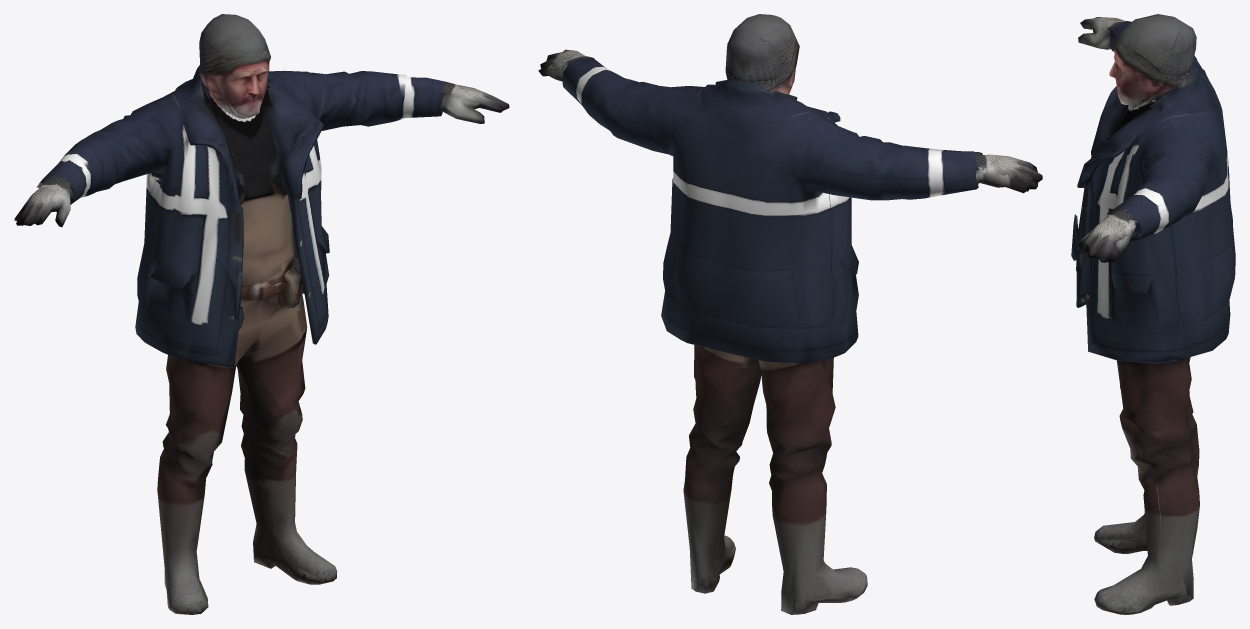
Rendered from Meshy_AI_Arms_Outstretched_0525043205_texture.glb.
3 views of the same model, side by side, from view 1: azimuth 30°, elevation 25°; view 2: azimuth 150°, elevation 25°; view 3: azimuth 270°, elevation 25° (orthographic). The views are drawn at different scales.
Visible parts, largest first — view 1: Mesh_0; view 2: Mesh_0; view 3: Mesh_0.
Boxes of the visible parts, x1,y1,x2,y2 form: Mesh_0: (14,14,509,614); Mesh_0: (538,14,1042,614); Mesh_0: (1071,14,1235,614).
Size of the model in its own units: 1.74 by 1.91 by 0.5079.
1 material, 1 textured.
